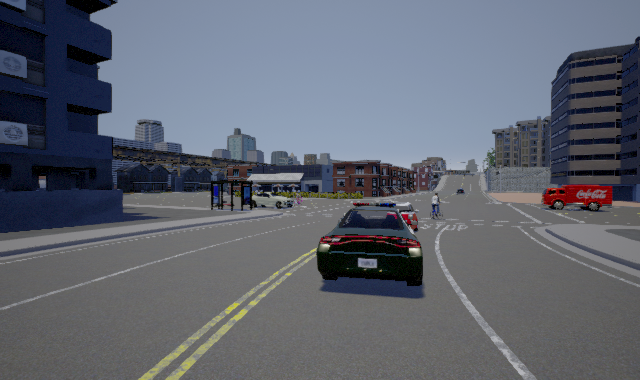bike: (428, 193, 446, 220)
vehicle: (316, 202, 423, 286), (541, 185, 612, 212), (252, 192, 303, 209)
